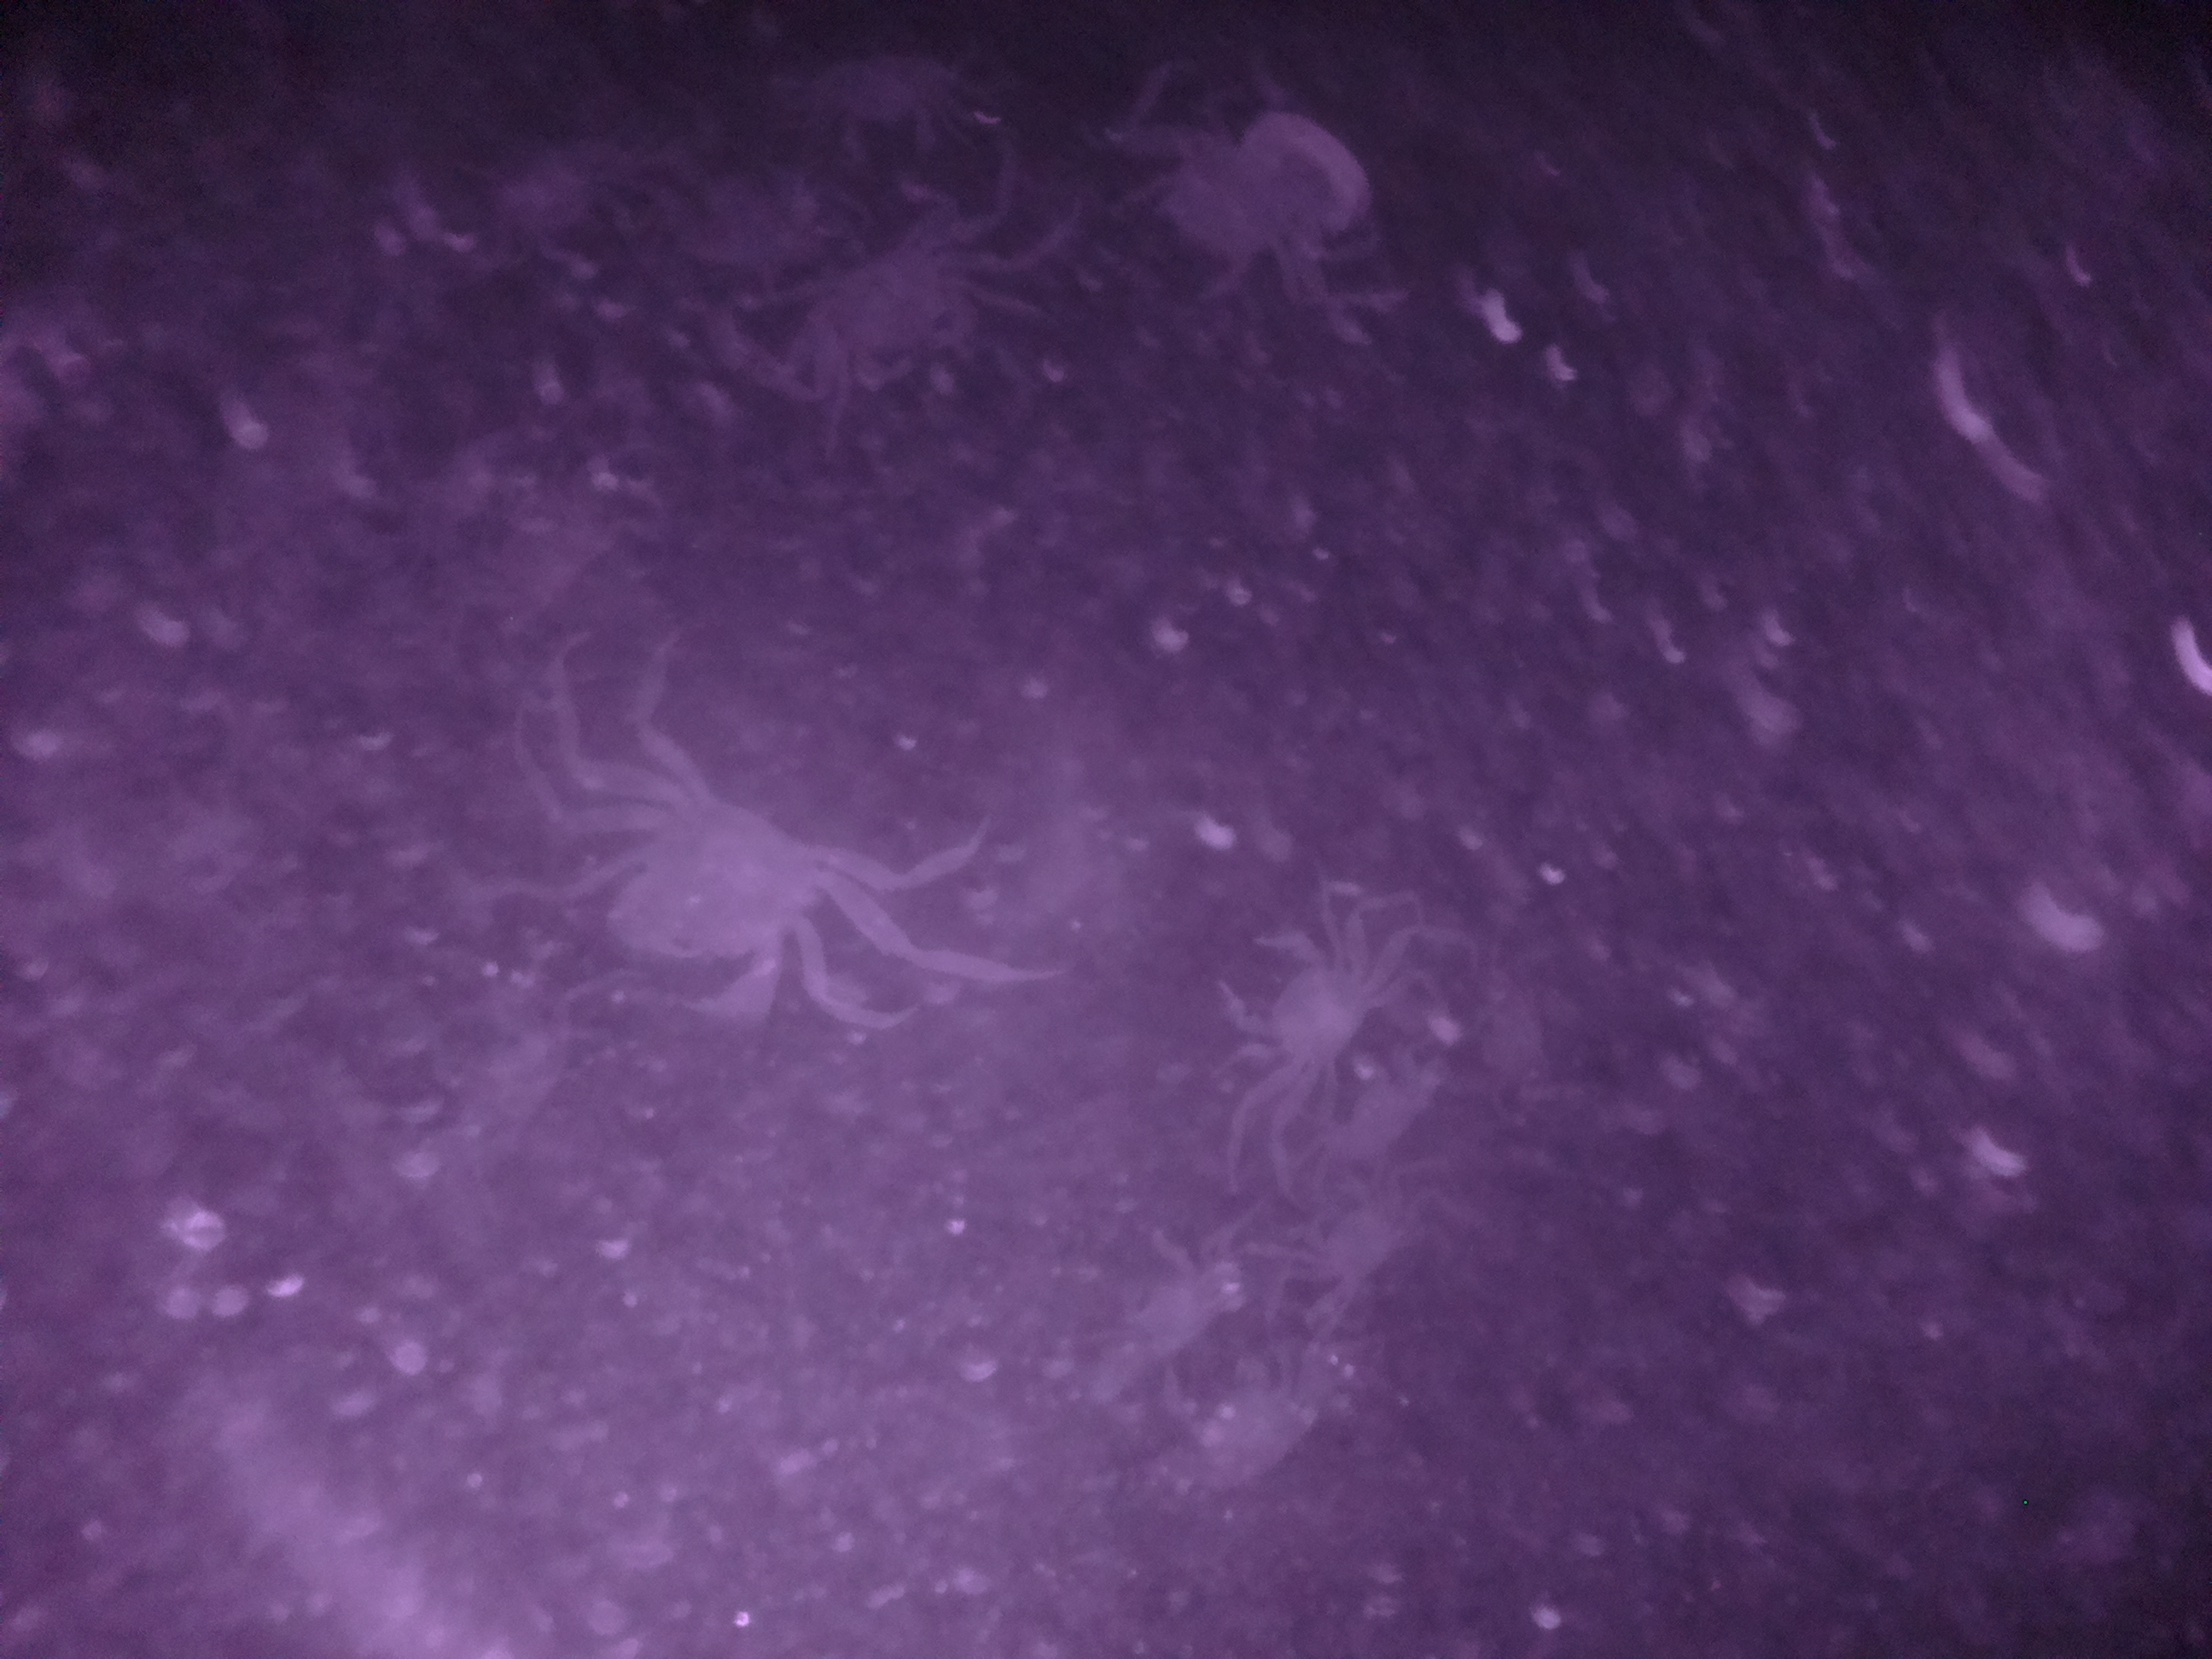Crab: (577, 763, 881, 1030), (1191, 906, 1376, 1098)
